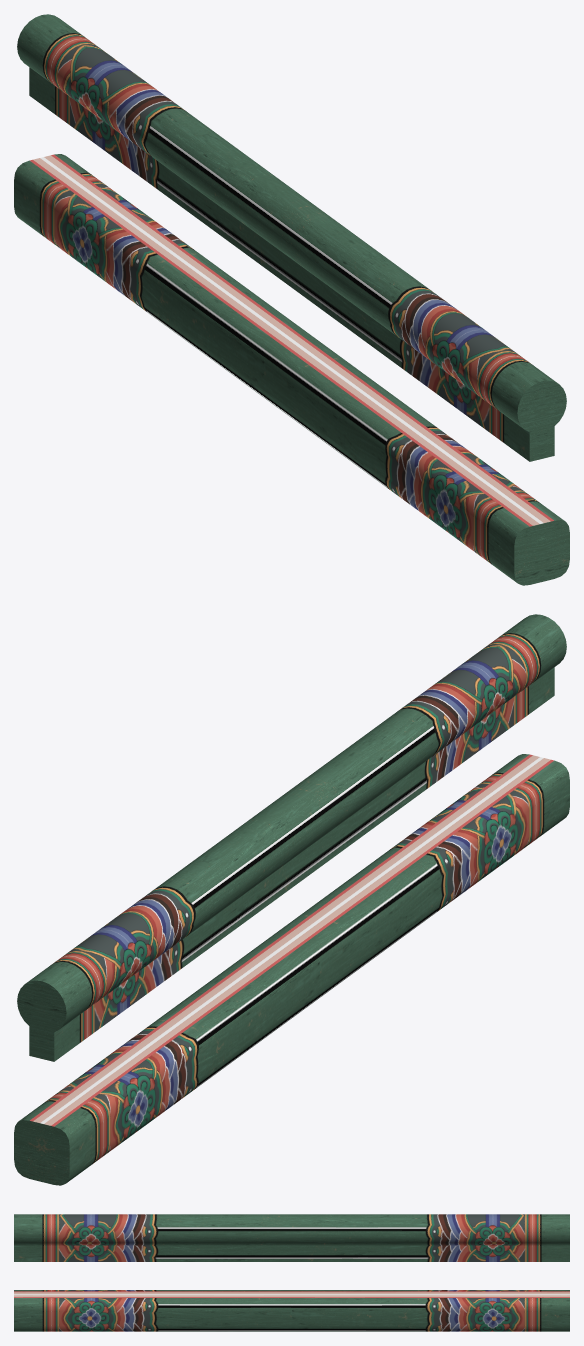
The model's file is SM_CGJ_Purlin04d.fbx.
3 views of the same model, one above another, from view 1: azimuth 30°, elevation 25°; view 2: azimuth 150°, elevation 25°; view 3: azimuth 270°, elevation 25° (orthographic). The views are drawn at different scales.
Visible parts, largest first — view 1: SM_CGJ_Purlin04d; view 2: SM_CGJ_Purlin04d; view 3: SM_CGJ_Purlin04d.
Boxes of the visible parts, x1,y1,x2,y2 form: SM_CGJ_Purlin04d: [14, 14, 569, 585]; SM_CGJ_Purlin04d: [14, 614, 569, 1185]; SM_CGJ_Purlin04d: [14, 1214, 569, 1331].
Bounding box in the file's own units: 22.5 × 350 × 77.5.
Materials: 1 (1 with a texture image).
